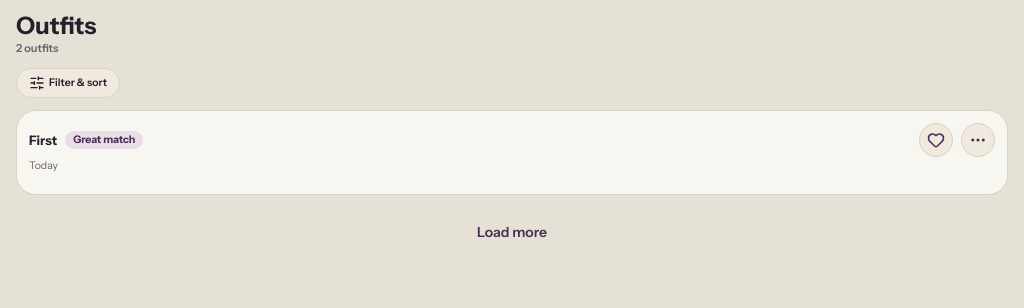
Scenario: OutfitsGrid › pagination (gh-28) › clicking Load more requests the next offset and appends the results
Check: the button "First" is shown, box x1=29 y1=131 x2=57 y2=149
Step 1. Click the button "Load more" → point(512, 233), box x1=465 y1=211 x2=559 y2=255
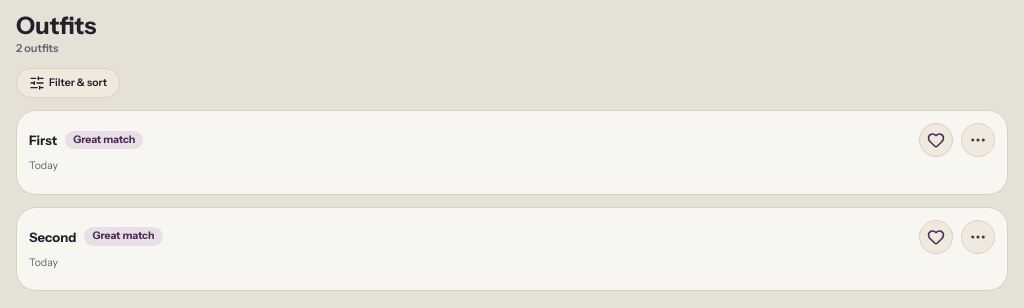
Check: the button "First" is shown, box x1=29 y1=131 x2=57 y2=149
Check: the button "Second" is shown, box x1=29 y1=228 x2=76 y2=246
Check: the button "Load more" is gone
